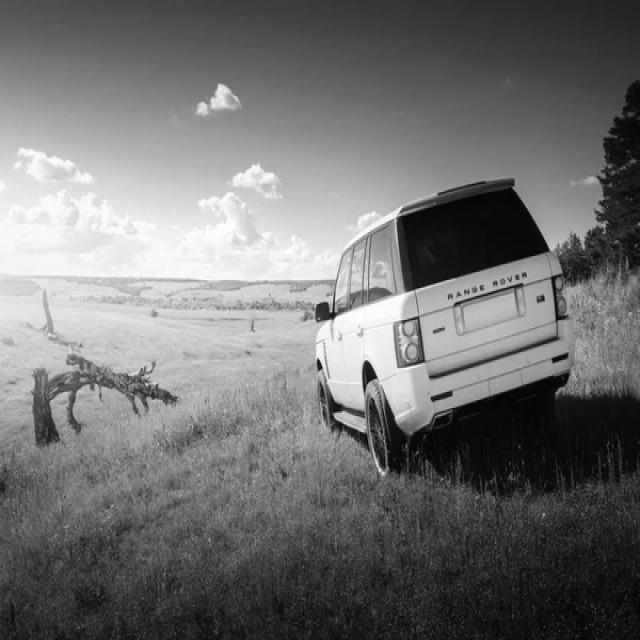Car: (316, 180, 576, 474)
